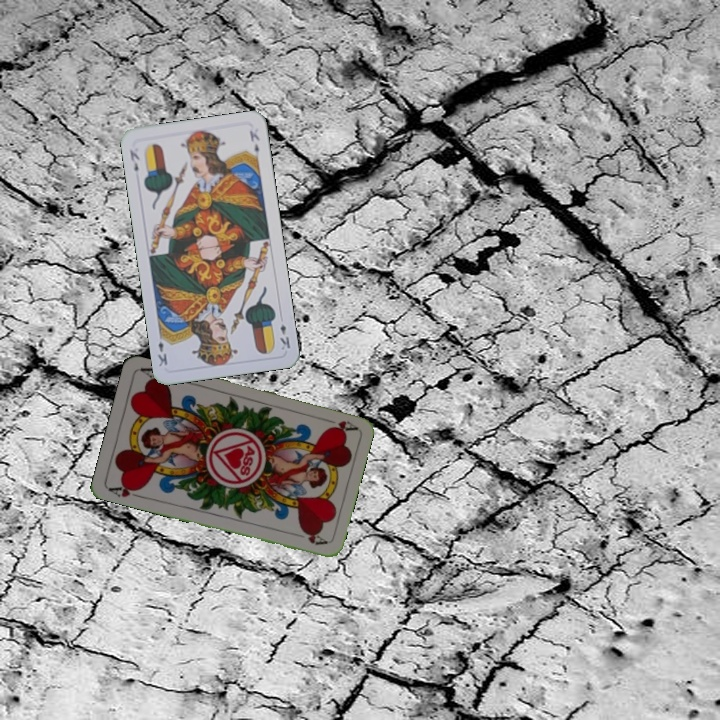EK: (276, 320, 293, 352), (126, 146, 142, 174)
HA: (105, 480, 145, 501), (319, 414, 359, 435)
